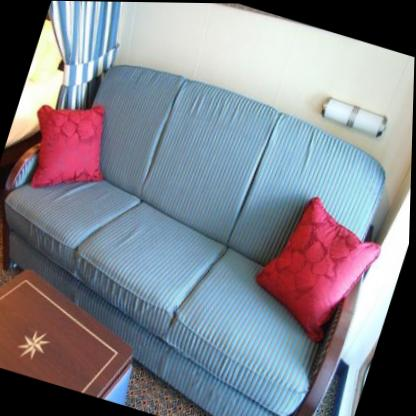Sofa: (0, 27, 415, 416)
